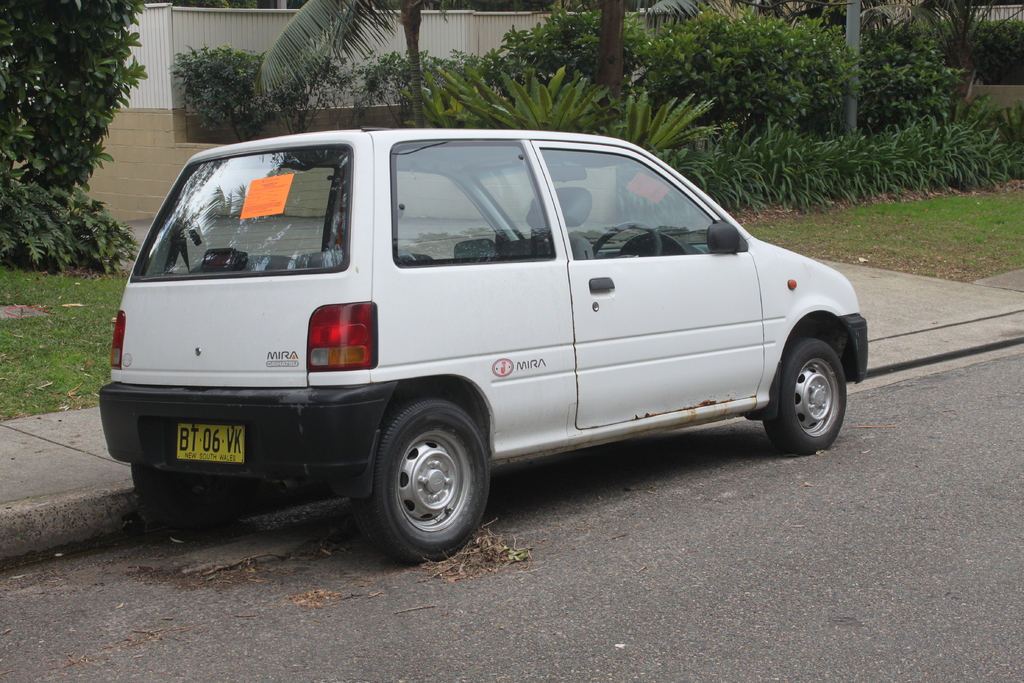cars: (108, 110, 873, 559)
